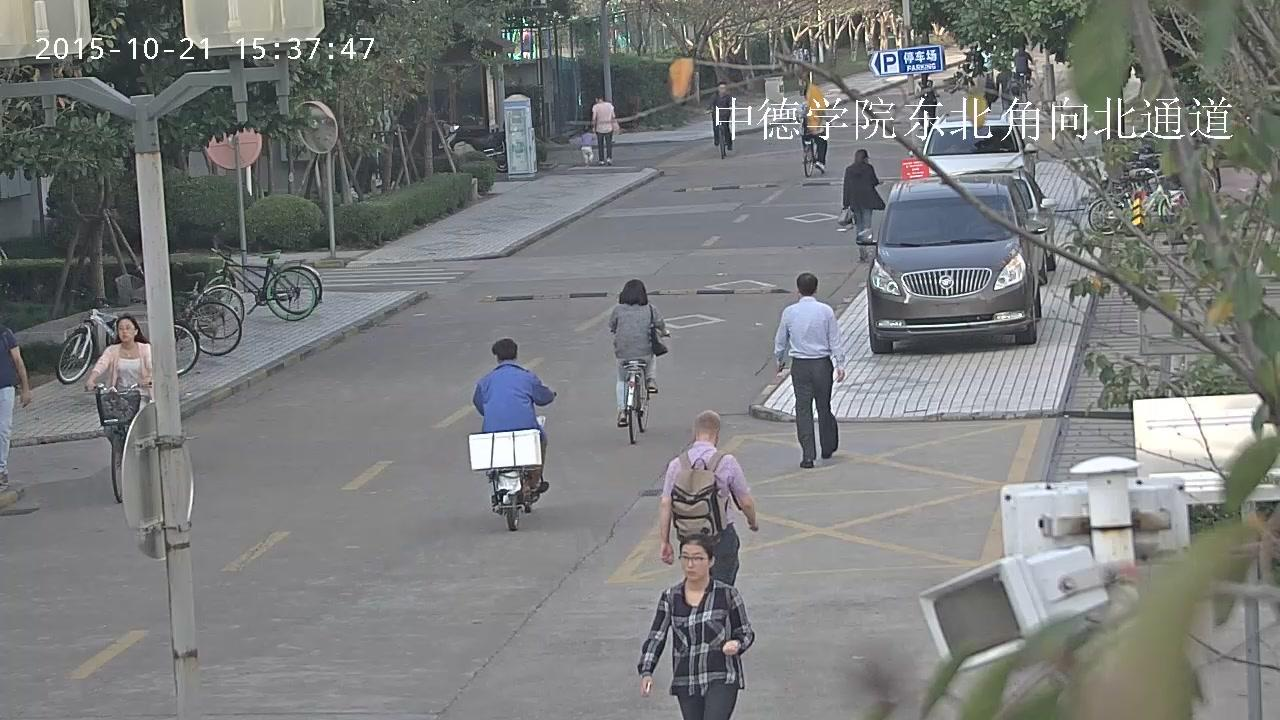face: (681, 543, 708, 581), (118, 318, 134, 341), (719, 84, 725, 92), (921, 74, 926, 80)
